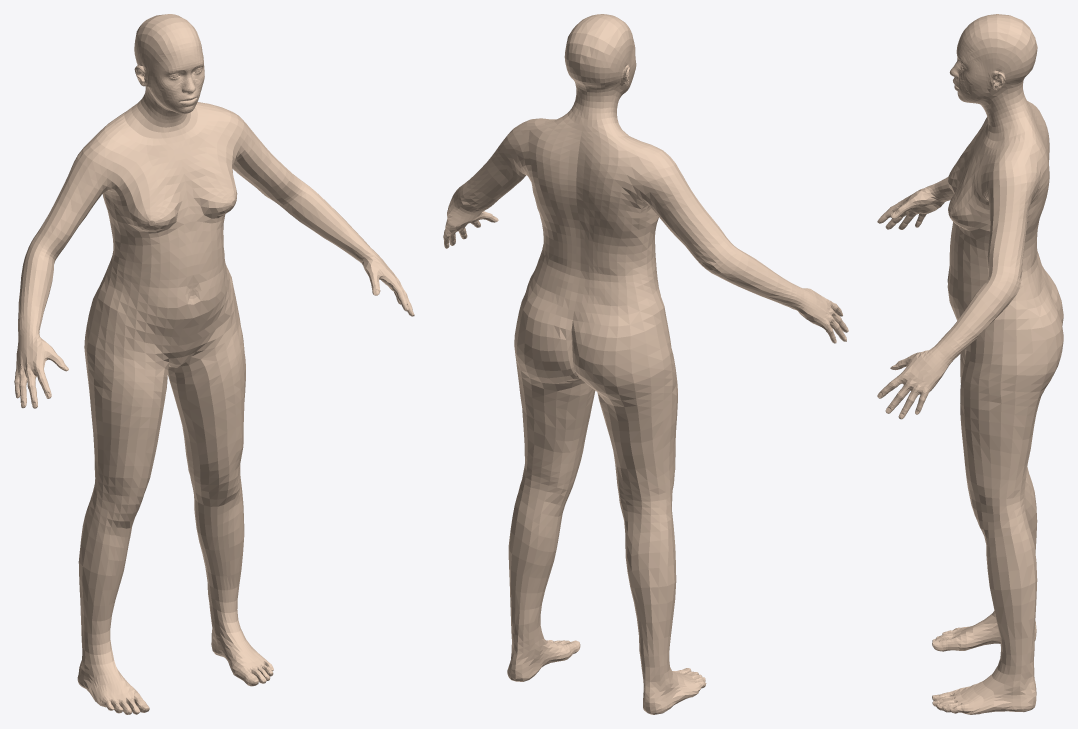
Rendered from female-adult-heavy-toned.glb.
3 renders of one model, left to right at view 1: azimuth 30°, elevation 25°; view 2: azimuth 150°, elevation 25°; view 3: azimuth 270°, elevation 25°, orthographic.
Visible parts, largest first — view 1: world; view 2: world; view 3: world.
Boxes of the visible parts, x1,y1,x2,y2 form: world: (14, 14, 414, 714); world: (443, 14, 848, 714); world: (877, 14, 1063, 714).
Size of the model in its own units: 1.12 by 1.81 by 0.4633.
